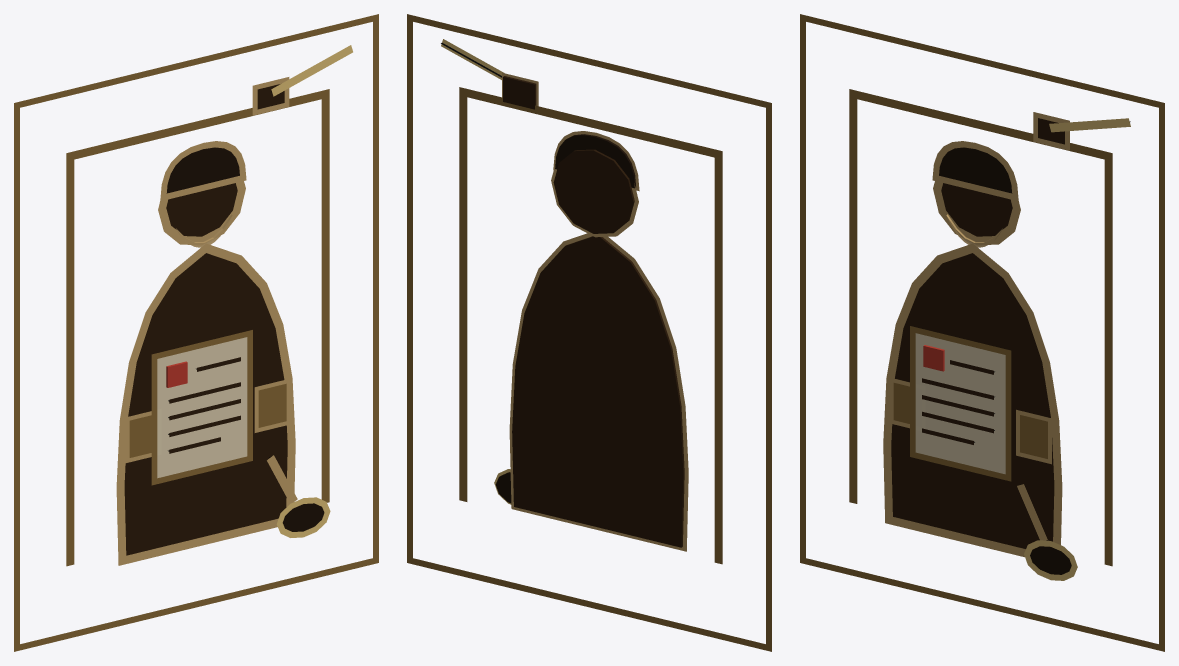
Rendered from npc-pechatnik.glb.
3 renders of one model, left to right at view 1: azimuth 30°, elevation 25°; view 2: azimuth 150°, elevation 25°; view 3: azimuth 330°, elevation 25°, orthographic.
Visible parts, largest first — view 1: npc-pechatnik; view 2: npc-pechatnik; view 3: npc-pechatnik.
Boxes of the visible parts, <box> form: npc-pechatnik: <box>14,14,378,651</box>; npc-pechatnik: <box>407,14,771,651</box>; npc-pechatnik: <box>800,14,1164,651</box>.
Bounding box in the file's own units: 1.14 × 1.64 × 0.105.
